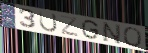3: (18, 8, 37, 30)
G: (81, 19, 100, 41)
N: (102, 21, 123, 46)
O: (122, 26, 143, 48)
U: (38, 10, 59, 33)
Z: (60, 14, 80, 38)
